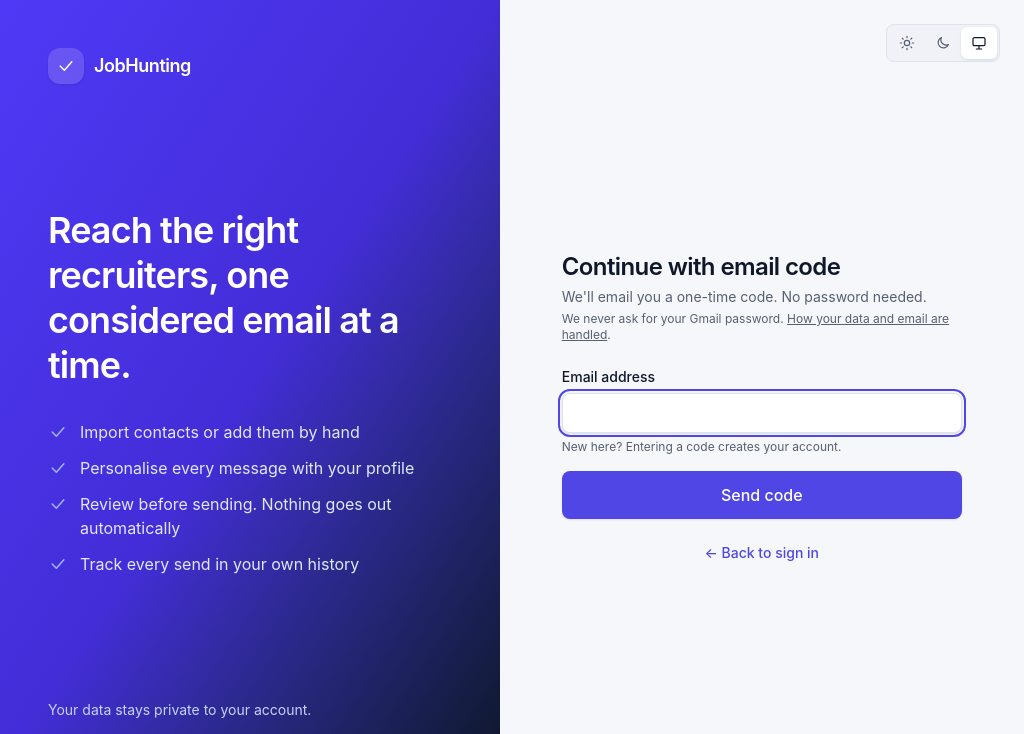
Test: email OTP flow › requests a code, verifies it, then continues to onboarding for new users; handles invalid + cooldown states
Step 1. Type "new@example.com" into the field labelled "Email address" → (762, 413), box [562,393,962,433]
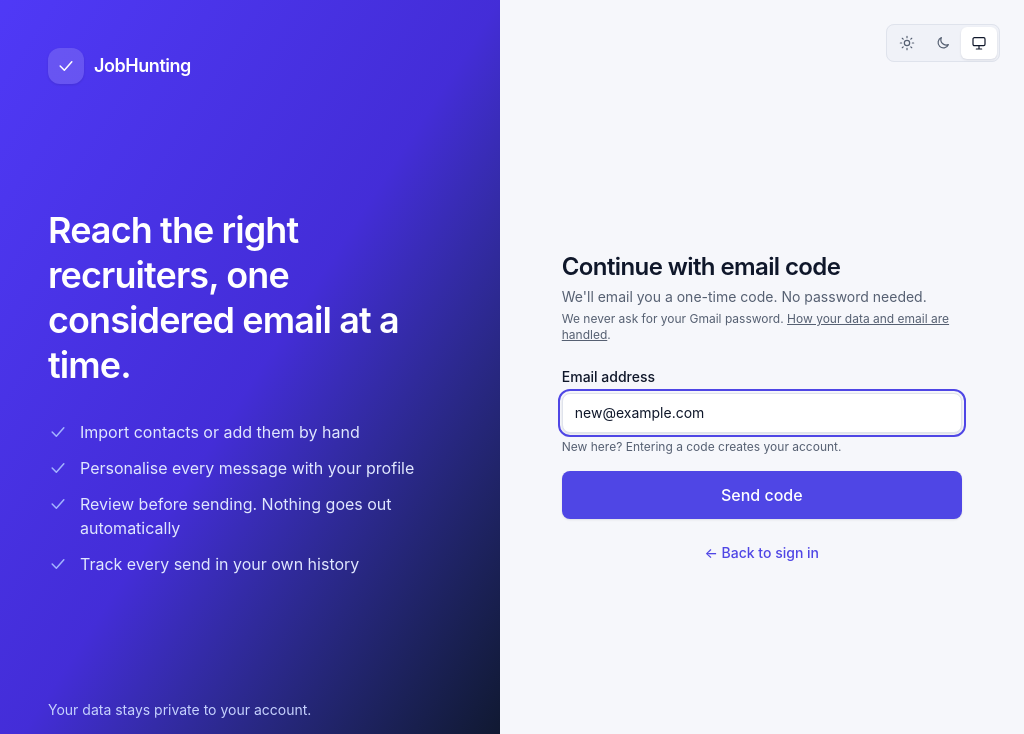
Step 2. Click the button "Send code" → (762, 495), box [562,471,962,519]
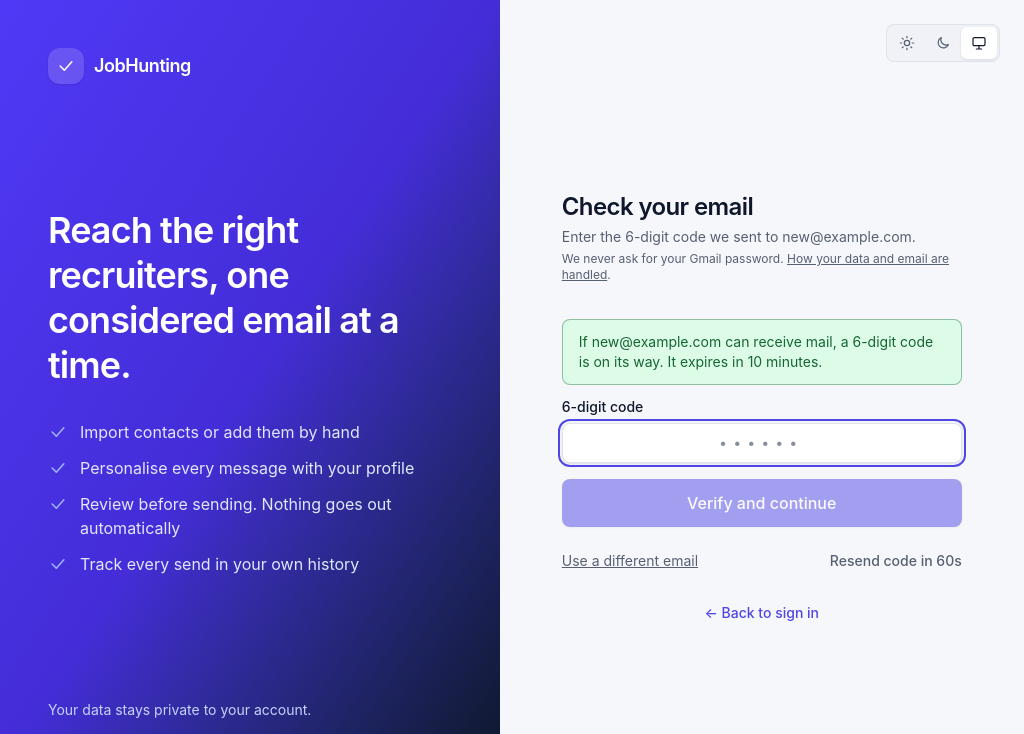
Now the heading "Check your email" is shown, box [562,192,753,221]
Now the button "Resend code in 60s" is disabled, box [830,543,962,579]
Step 3. Type "123456" into the field labelled "6-digit code" → (762, 443), box [562,423,962,463]
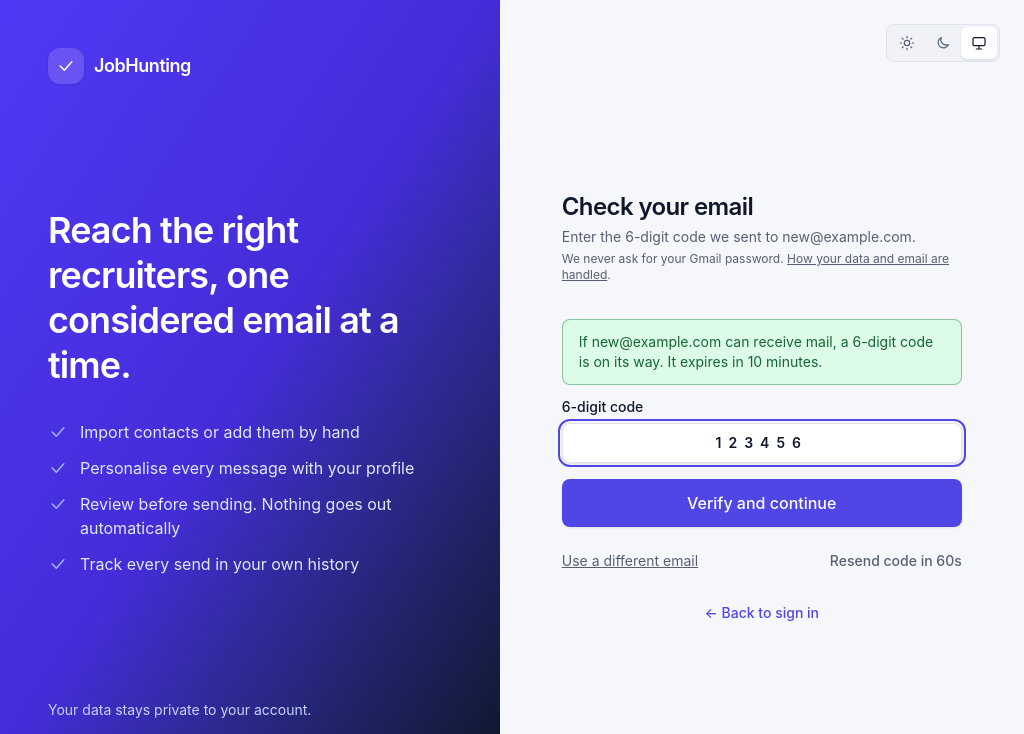
Step 4. Click the button "Verify and continue" → (762, 503), box [562,479,962,527]
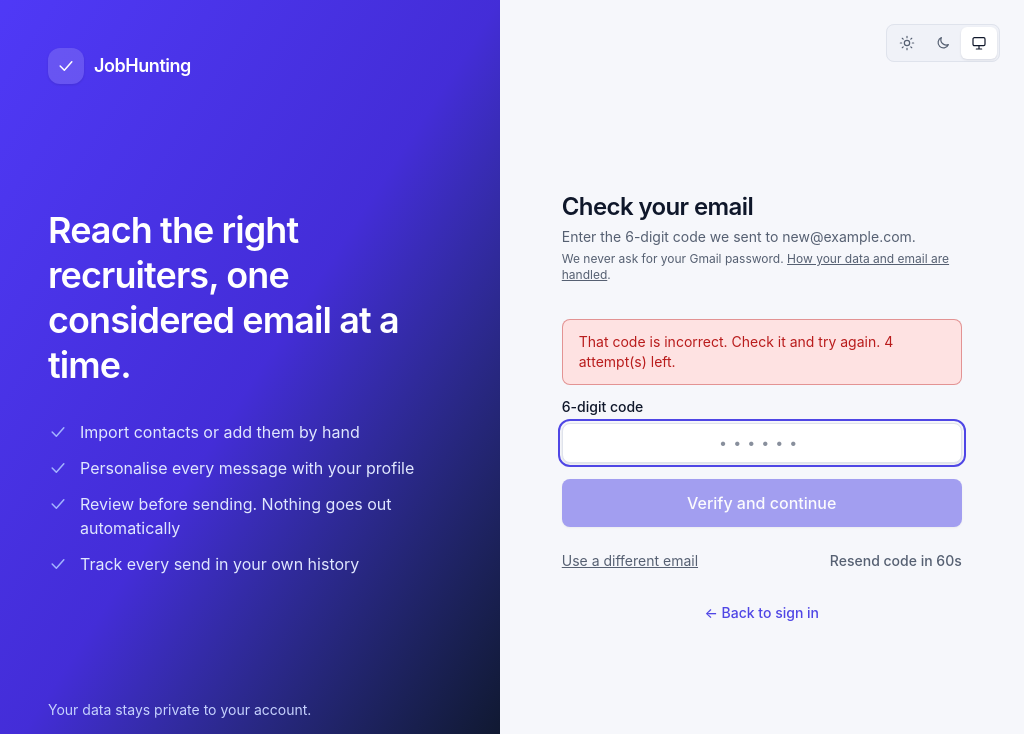
Now the message shows "4 attempt(s) left", box [579,333,893,370]
Step 5. Type "654321" into the field labelled "6-digit code" → (762, 443), box [562,423,962,463]
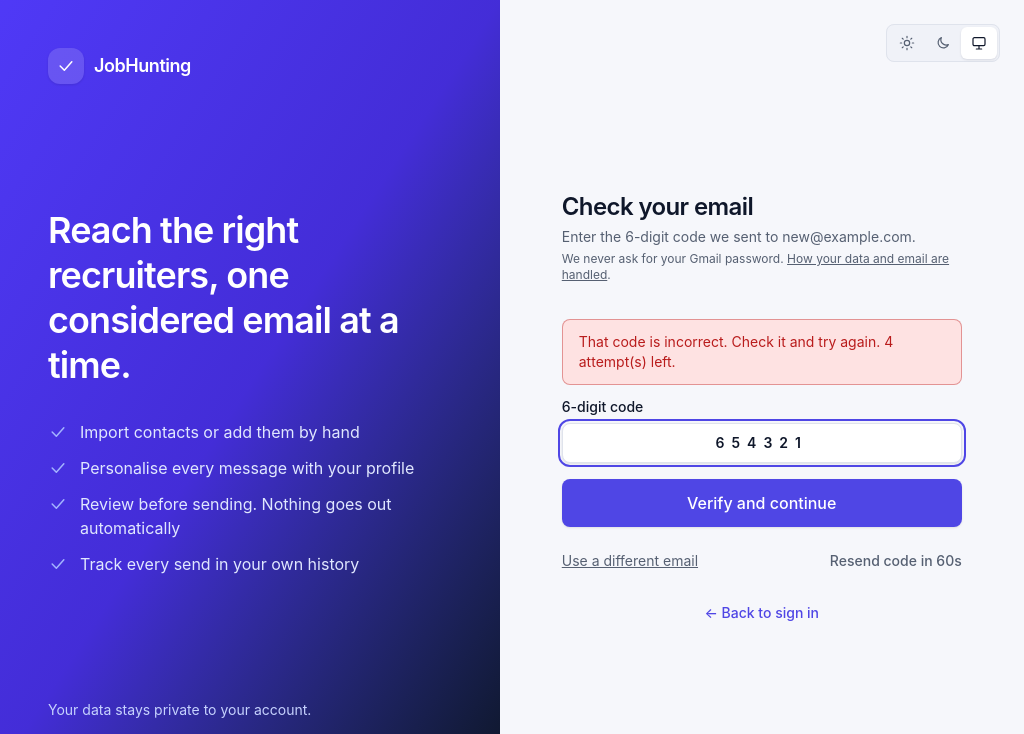
Step 6. Click the button "Verify and continue" → (762, 503), box [562,479,962,527]
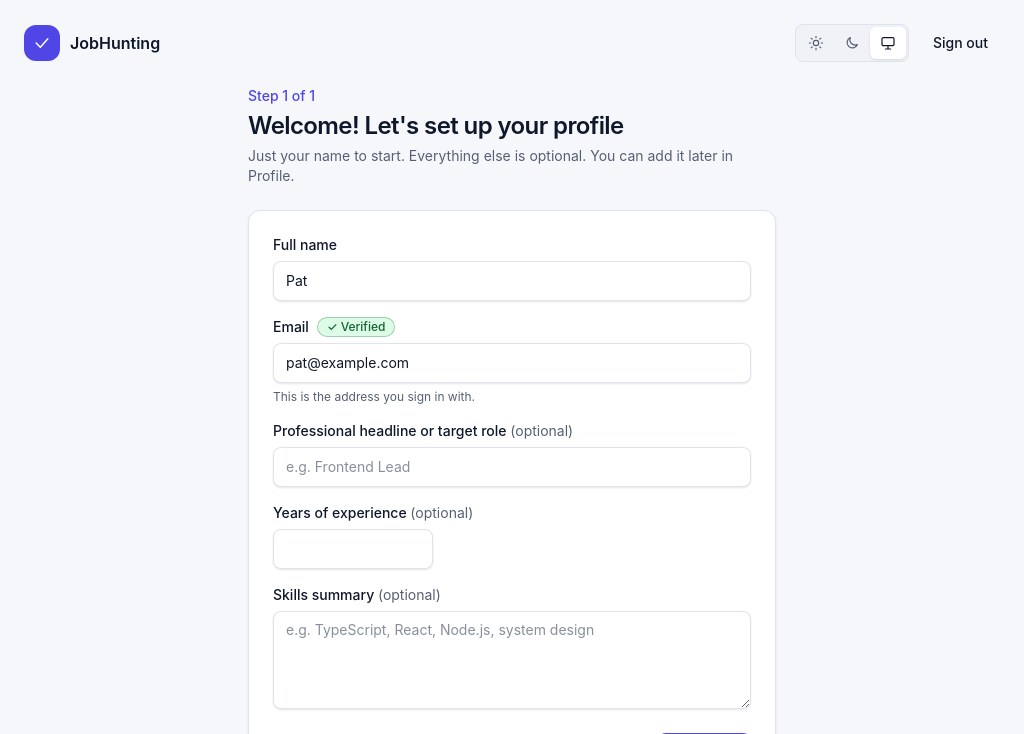
Now the heading "Welcome! Let's set up your profile" is shown, box [248,111,624,140]
